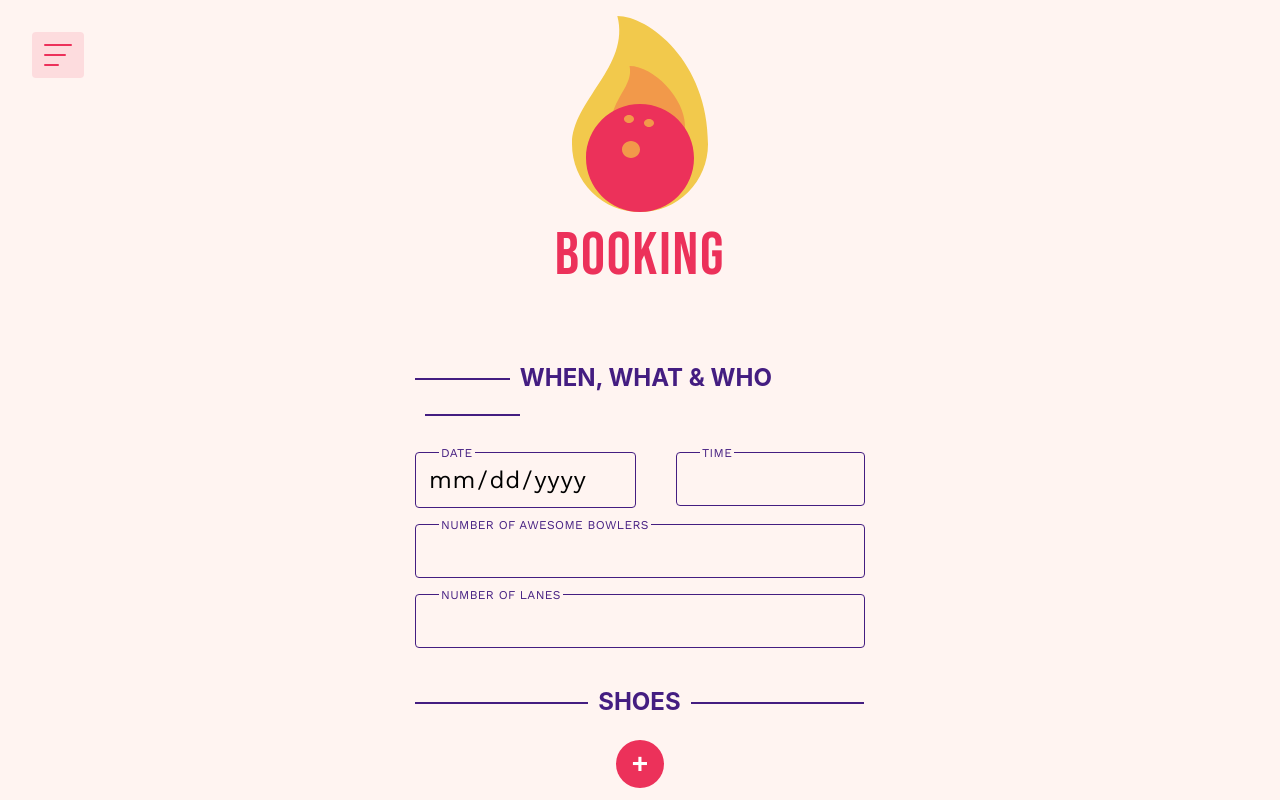
it: Check navigation-alternatives so that the user easy can navigate through the application spec › should open a navigation menu
Click the picture with class "navigation__icon" at (58,55), box left=32, top=32, right=84, bottom=78
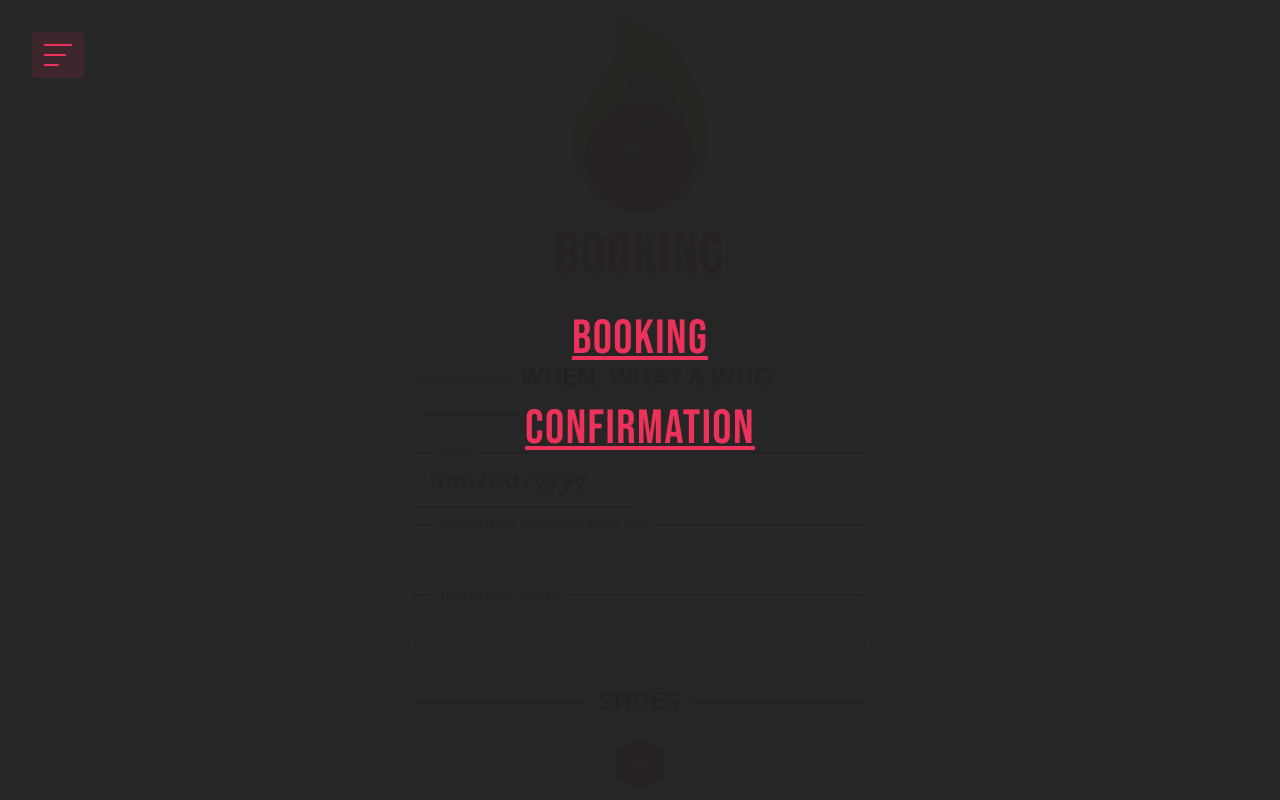
Result: the navigation bar with class "show-menu" is shown
